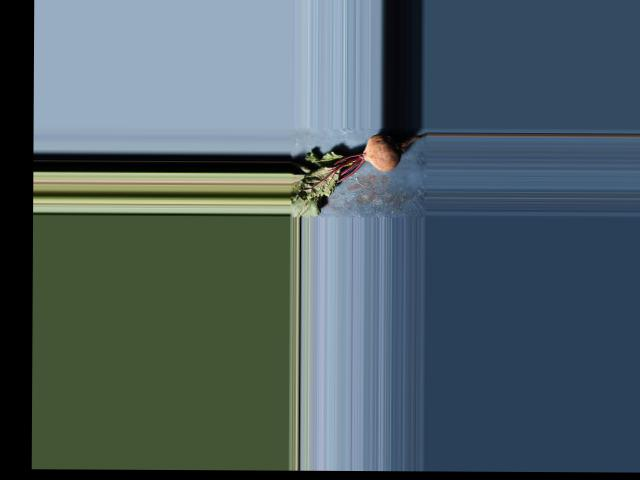beet: (289, 132, 426, 217)
